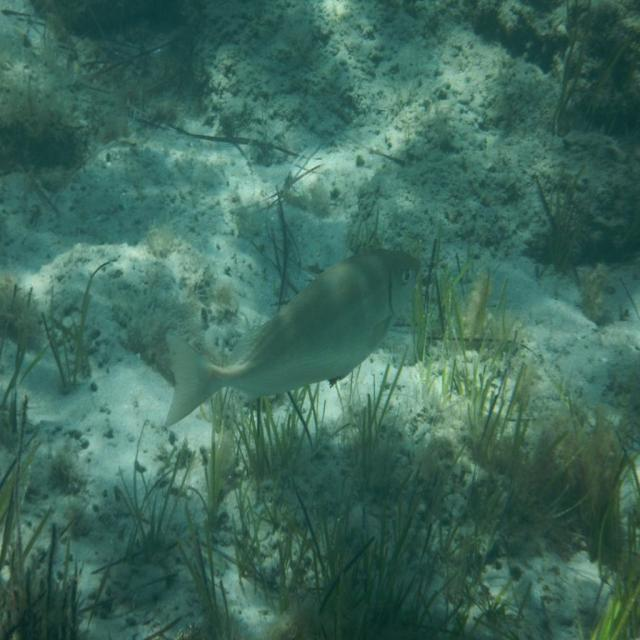Sokar Baligi: (152, 235, 426, 443)
